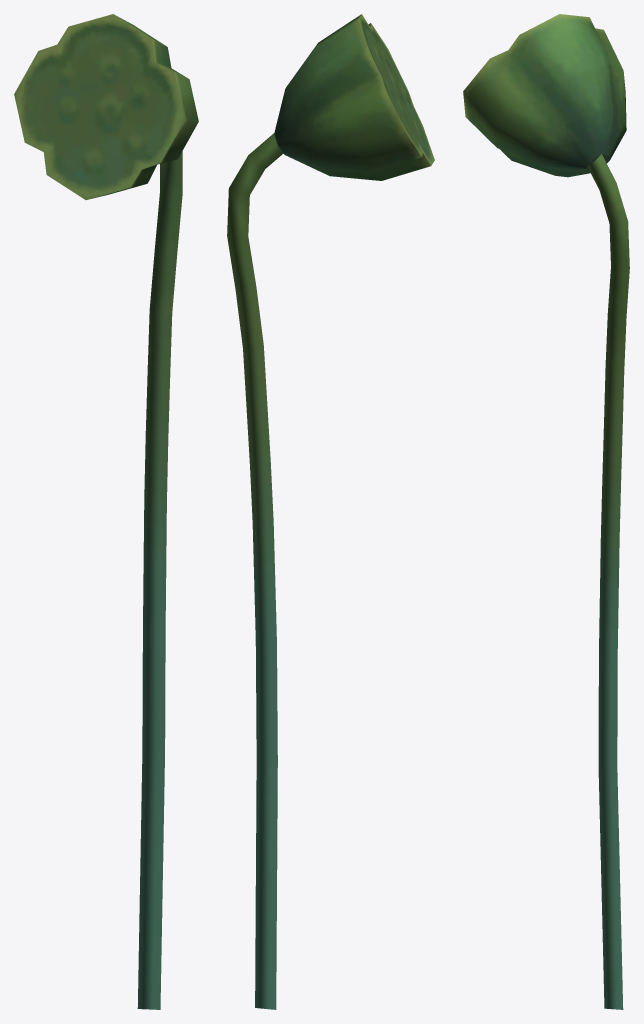
File: Homeworld_General_Common_Thing_Prop_Irodori_MainFlower_05_High_Vo.fbx
3 renders of one model, left to right at view 1: azimuth 30°, elevation 25°; view 2: azimuth 150°, elevation 25°; view 3: azimuth 270°, elevation 25°, orthographic. The views are drawn at different scales.
Visible parts, largest first — view 1: Homeworld_General_Common_Thing_Prop_Irodori_MainFlower_05_Vo; view 2: Homeworld_General_Common_Thing_Prop_Irodori_MainFlower_05_Vo; view 3: Homeworld_General_Common_Thing_Prop_Irodori_MainFlower_05_Vo.
Part boxes in pixels (bbox=[...]): Homeworld_General_Common_Thing_Prop_Irodori_MainFlower_05_Vo: bbox=[14, 14, 198, 1009]; Homeworld_General_Common_Thing_Prop_Irodori_MainFlower_05_Vo: bbox=[227, 14, 434, 1009]; Homeworld_General_Common_Thing_Prop_Irodori_MainFlower_05_Vo: bbox=[463, 14, 629, 1009].
Bounding box in the file's own units: 0.0776 × 0.4302 × 0.0676.
